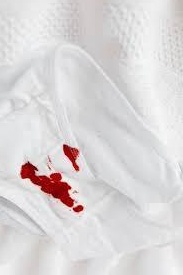blood: (19, 143, 85, 215)
